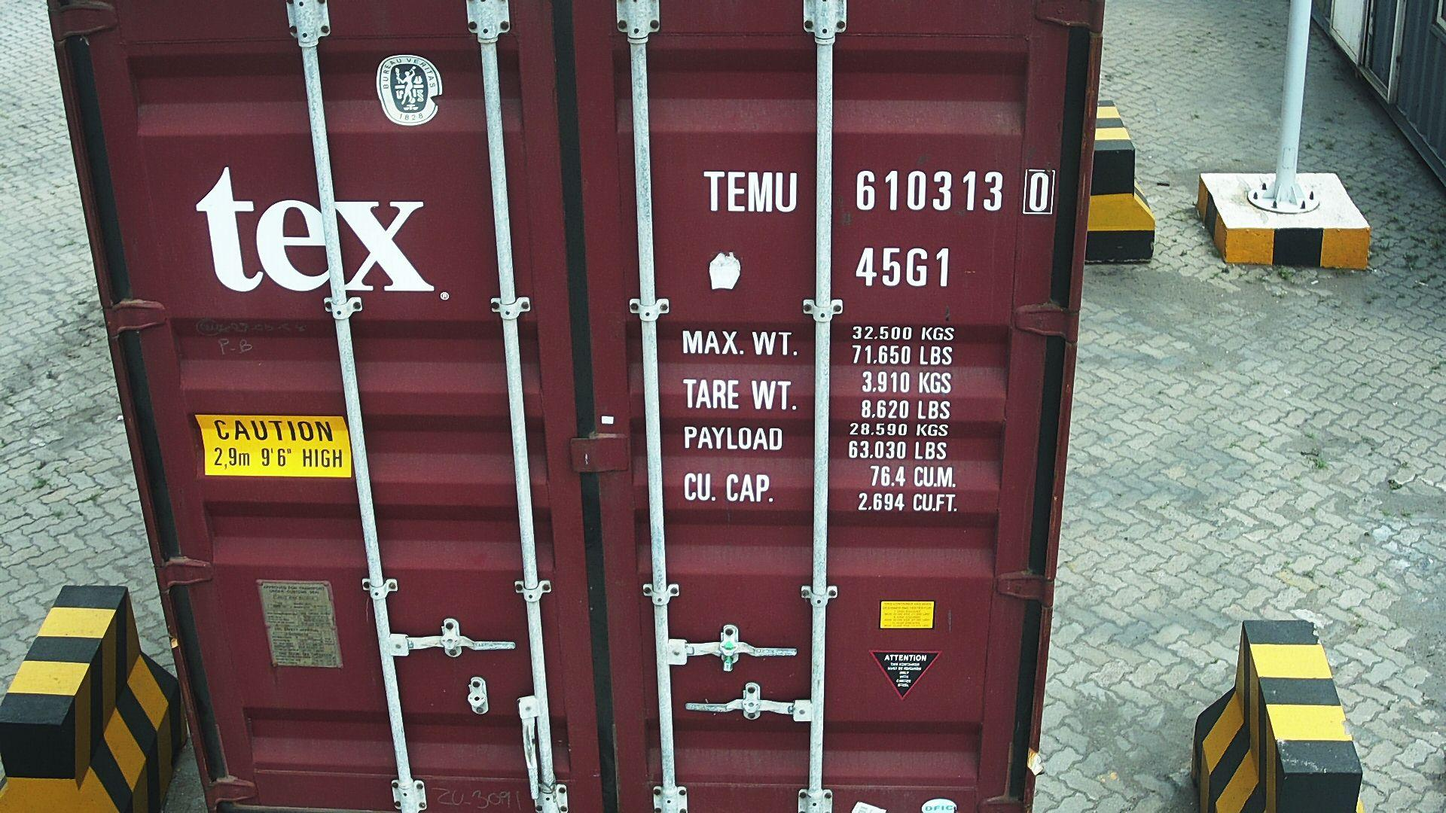container-numbers: (700, 164, 1057, 219), (852, 242, 955, 291)
